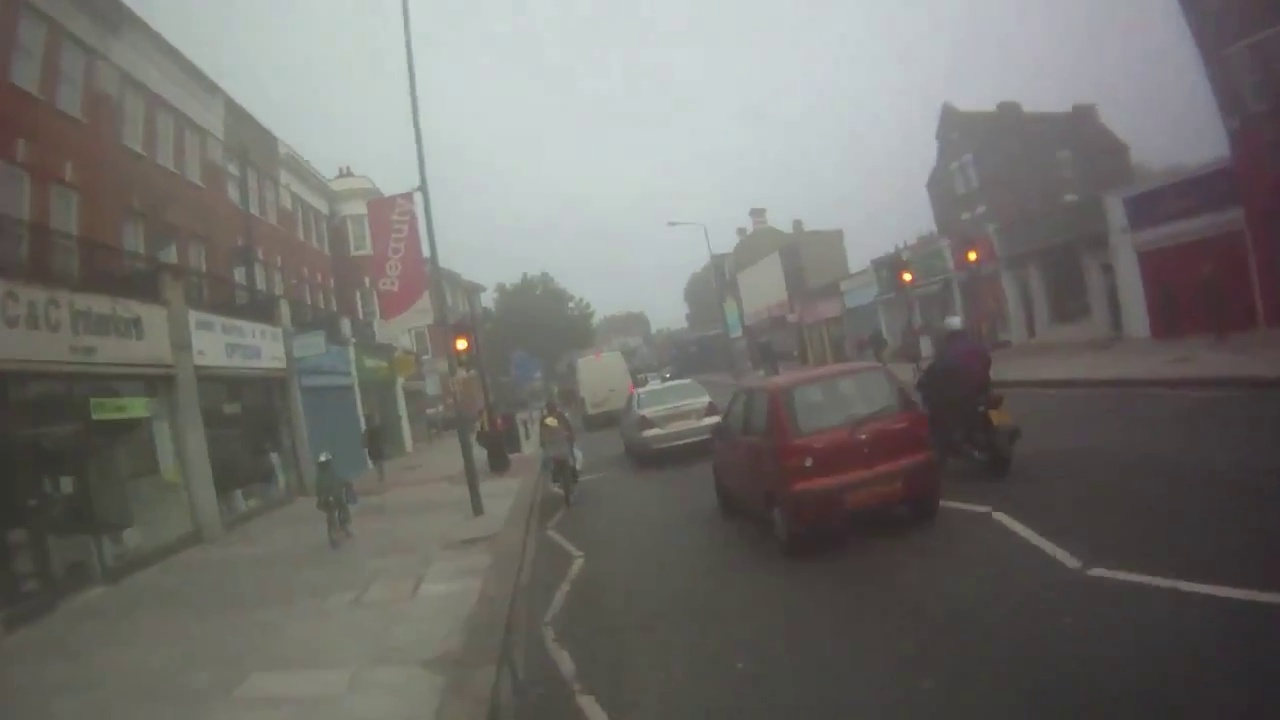cyclist_back: (531, 399, 589, 511)
